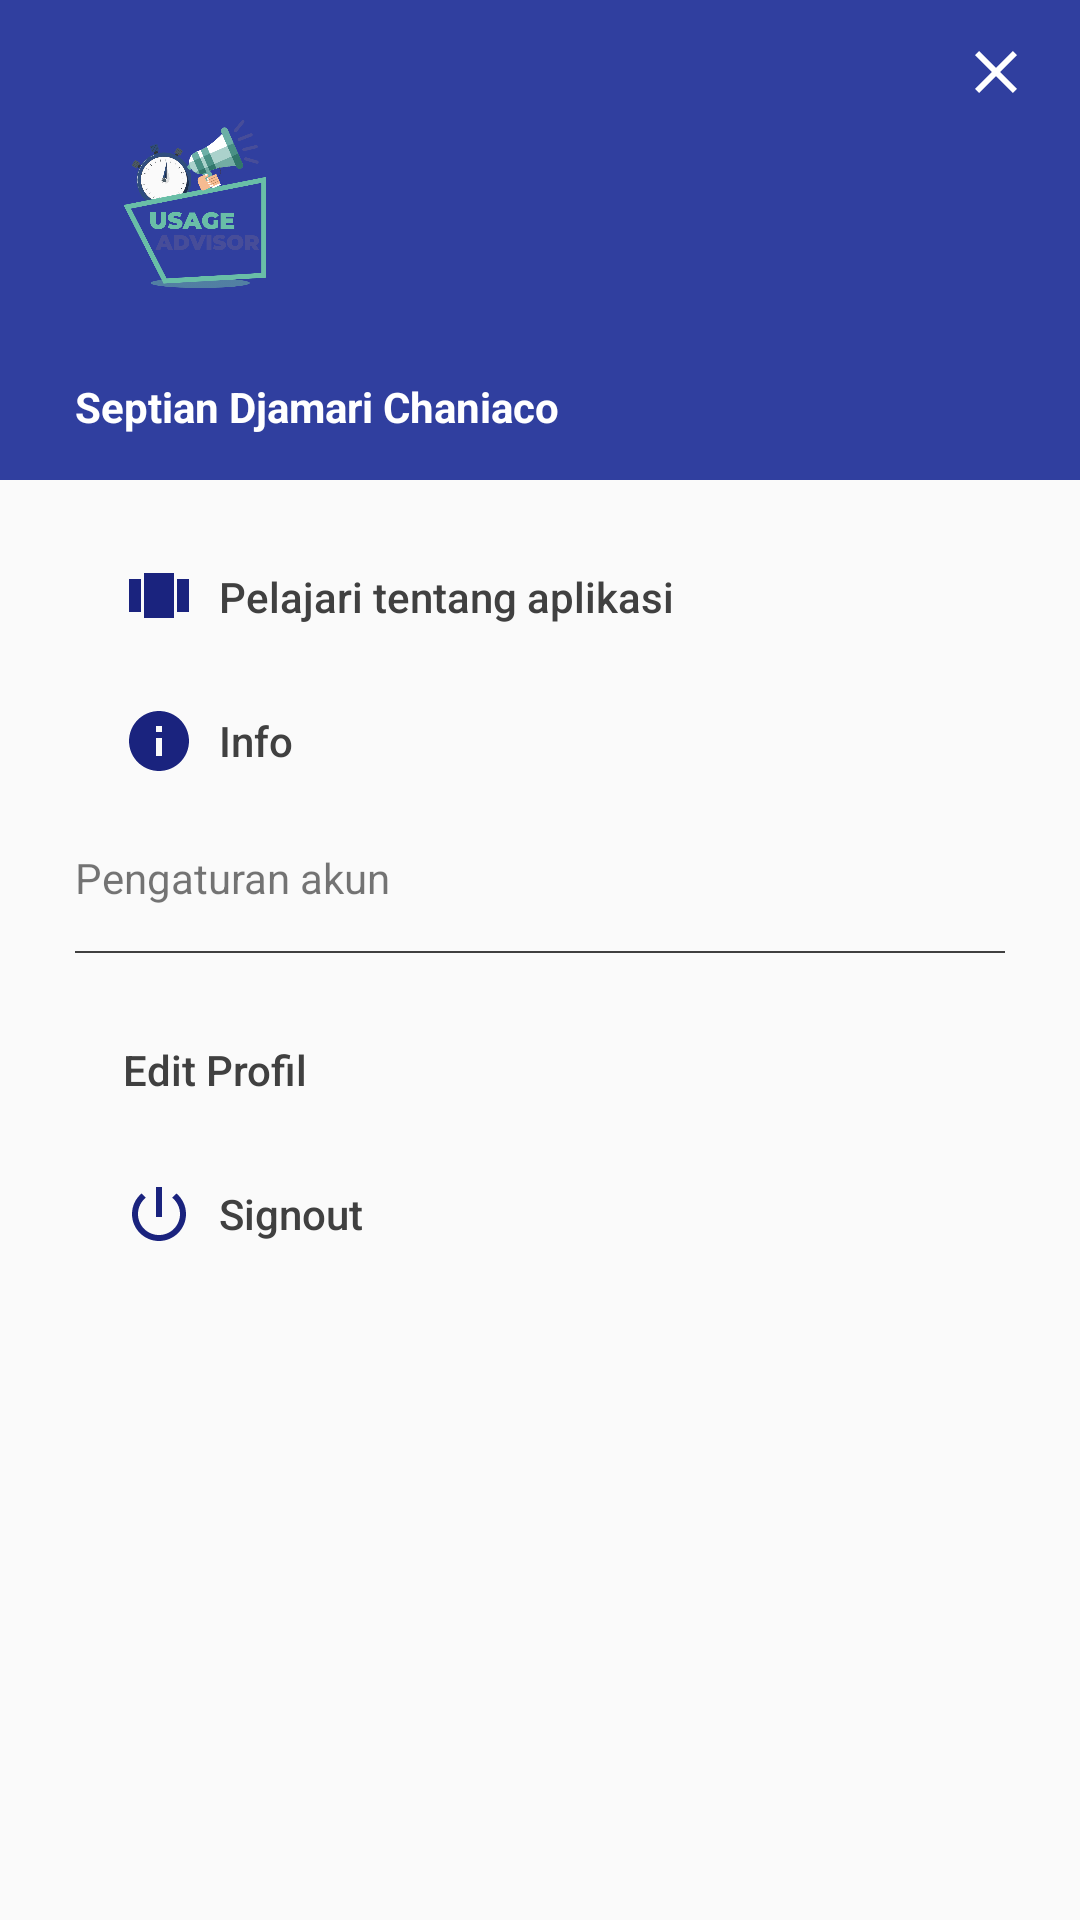

Where to tap for icons on this 1080w x 1920h app screen, as point (x, y):
close: point (996, 72)
